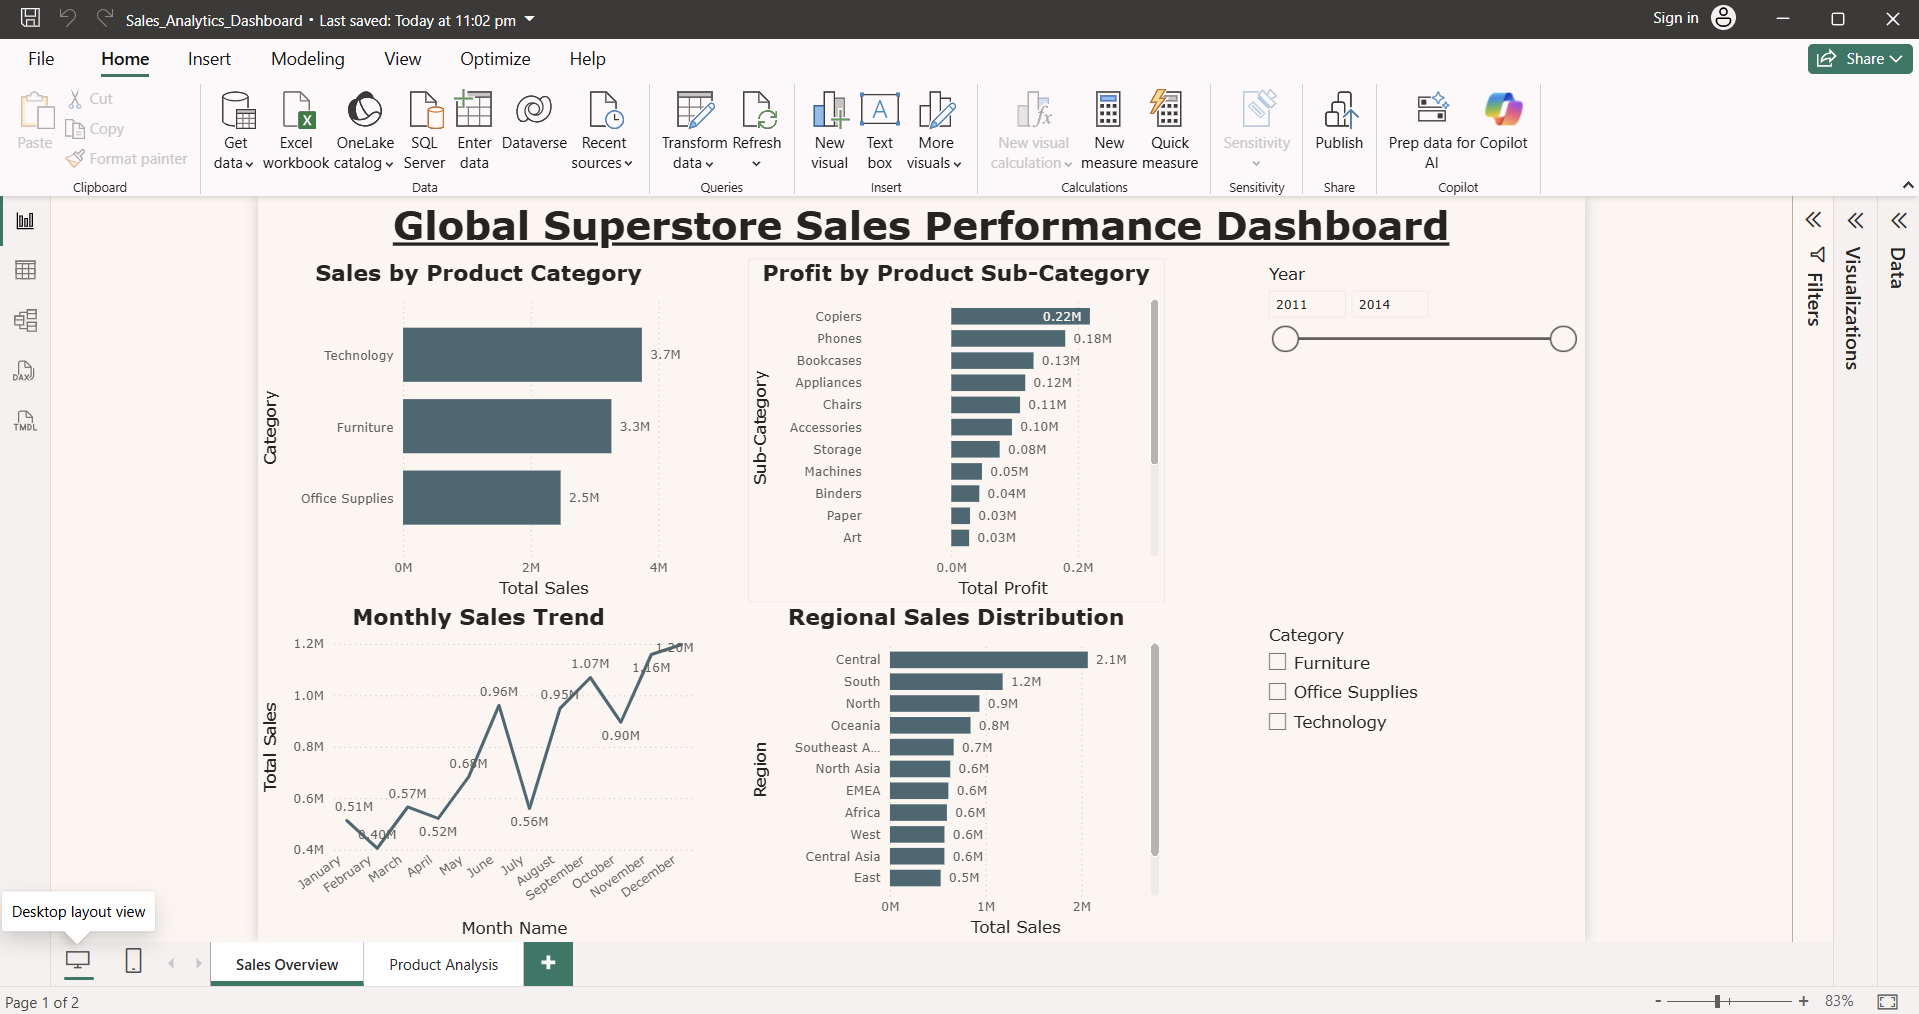

The dashboard page shown, as its layout file describes it:
{"tool":"powerbi","page":{"name":"Sales Overview","canvas":[1280,720],"ordinal":0},"visuals":[{"type":"clusteredBarChart","title":"Sales by Product Category","fields":{"Y":["Global_Superstore2.Total Sales"],"Category":["Global_Superstore2.Category"]},"box":[0,60.3,425.9,331.8],"z":0},{"type":"clusteredBarChart","title":"Profit by Product Sub-Category","fields":{"Y":["Global_Superstore2.Total Profit"],"Category":["Global_Superstore2.Sub-Category"]},"box":[472.9,60.3,401.7,331.8],"z":1000},{"type":"lineChart","title":"Monthly Sales Trend","fields":{"Y":["Global_Superstore2.Total Sales"],"Category":["Global_Superstore2.Month Name"]},"box":[0,392.1,425.9,328.2],"z":2000},{"type":"clusteredBarChart","title":"Regional Sales Distribution","fields":{"Y":["Global_Superstore2.Total Sales"],"Category":["Global_Superstore2.Region"]},"box":[473.2,392,402,327.8],"z":3000},{"type":"slicer","fields":{"Values":["Global_Superstore2.Year"]},"box":[962.1,59.9,317.9,332.1],"z":4000},{"type":"slicer","fields":{"Values":["Global_Superstore2.Category"]},"box":[962.1,409.1,317.9,300.8],"z":5000},{"type":"textbox","box":[0,0,1280,59.9],"z":5001}]}

Visuals, with their boxes on the page's 1280x720 design canvas (x1, y1, x2, y2). These are canvas units, not pixel positions in the 1919x1014 screenshot, which may show the page scaled, cropped or inside an application window:
"Sales by Product Category" clusteredBarChart: pyautogui.locateOnScreen(0, 60, 426, 392)
"Profit by Product Sub-Category" clusteredBarChart: pyautogui.locateOnScreen(473, 60, 875, 392)
"Monthly Sales Trend" lineChart: pyautogui.locateOnScreen(0, 392, 426, 720)
"Regional Sales Distribution" clusteredBarChart: pyautogui.locateOnScreen(473, 392, 875, 720)
slicer - Global_Superstore2.Year: pyautogui.locateOnScreen(962, 60, 1280, 392)
slicer - Global_Superstore2.Category: pyautogui.locateOnScreen(962, 409, 1280, 710)
textbox: pyautogui.locateOnScreen(0, 0, 1280, 60)
